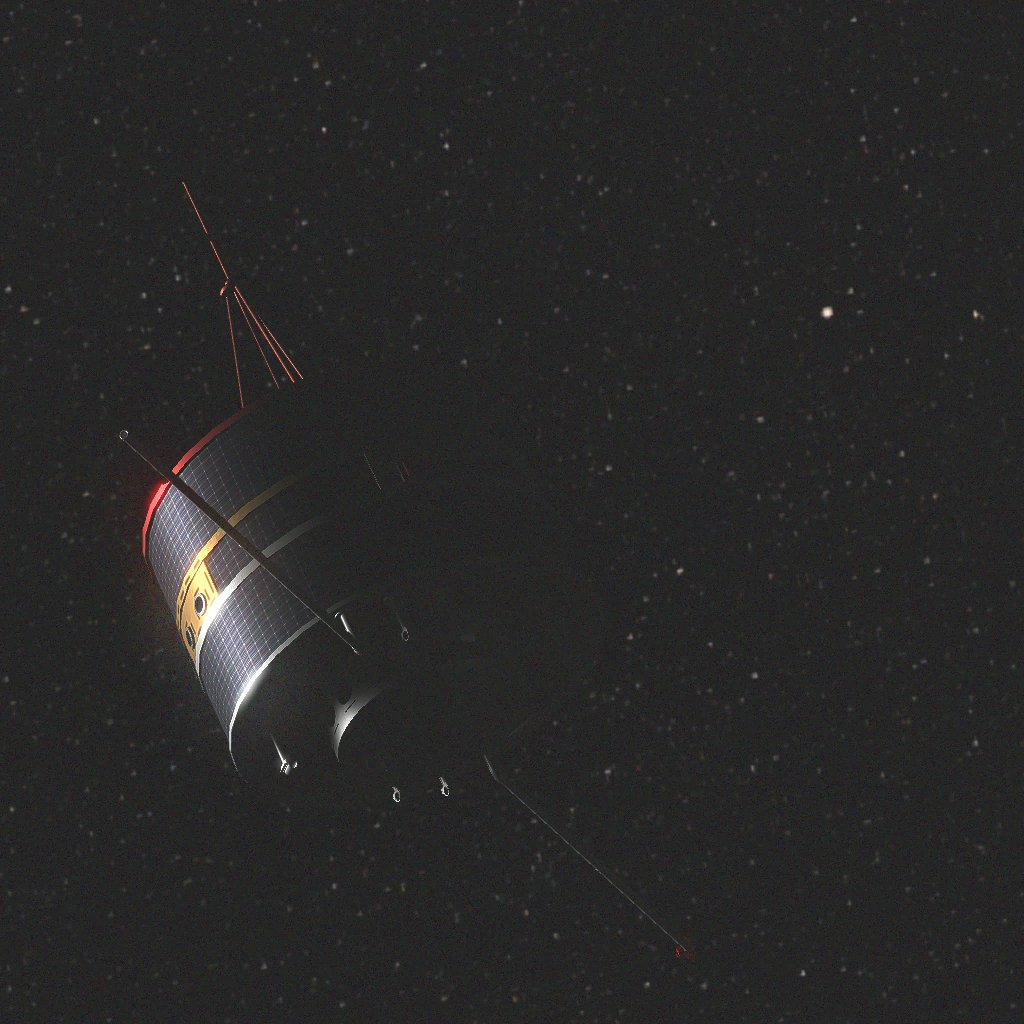double_star: (116, 181, 703, 962)
